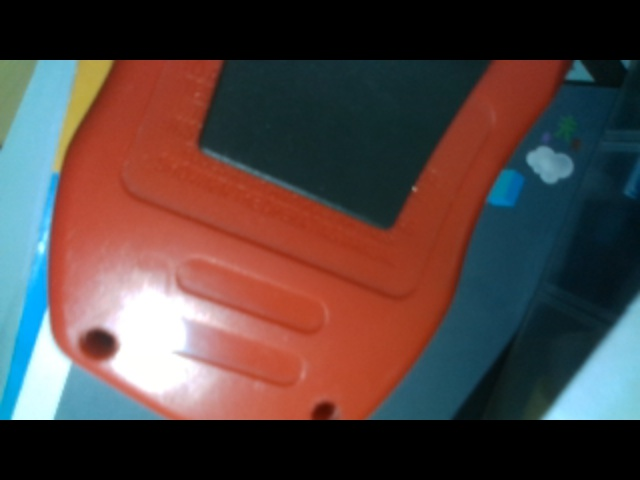Screw holes: (78, 326, 123, 364)
